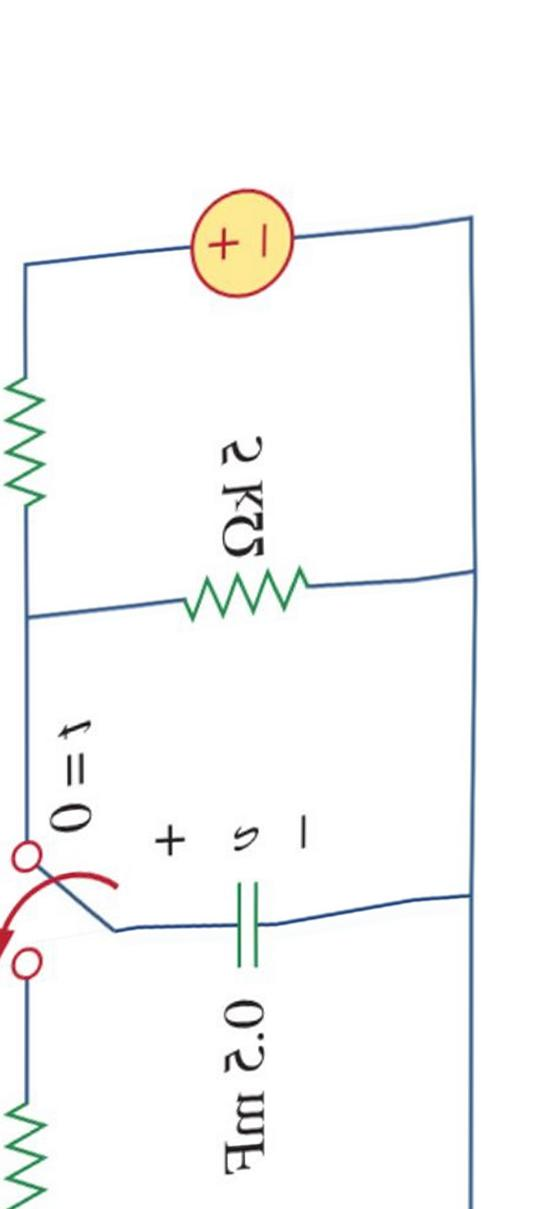Battery: (139, 151, 305, 334)
